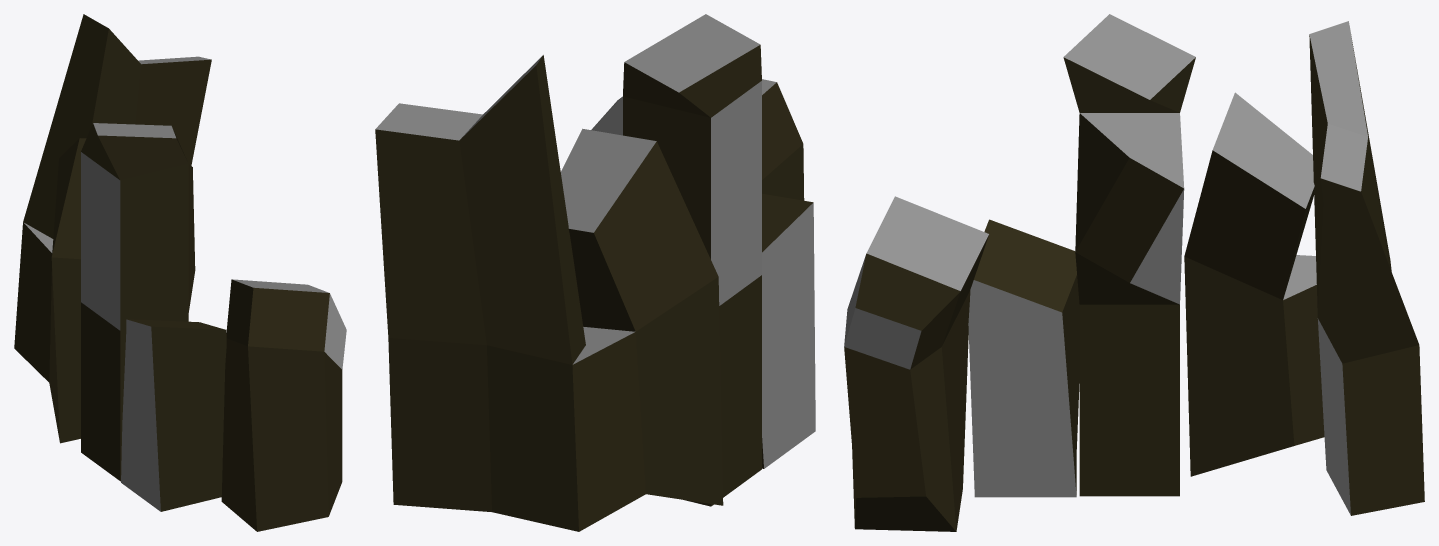
File: background.fbx
The picture shows the model from 3 angles, left to right: view 1: azimuth 30°, elevation 25°; view 2: azimuth 150°, elevation 25°; view 3: azimuth 270°, elevation 25°; orthographic projection. The views are drawn at different scales.
Visible parts, largest first — view 1: Cube.003; view 2: Cube.003; view 3: Cube.003.
Boxes of the visible parts, left/top/right/bottom form: Cube.003: left=14, top=14, right=346, bottom=531; Cube.003: left=375, top=14, right=815, bottom=531; Cube.003: left=844, top=14, right=1424, bottom=531.
Bounding box in the file's own units: 596 × 1032 × 1140.
